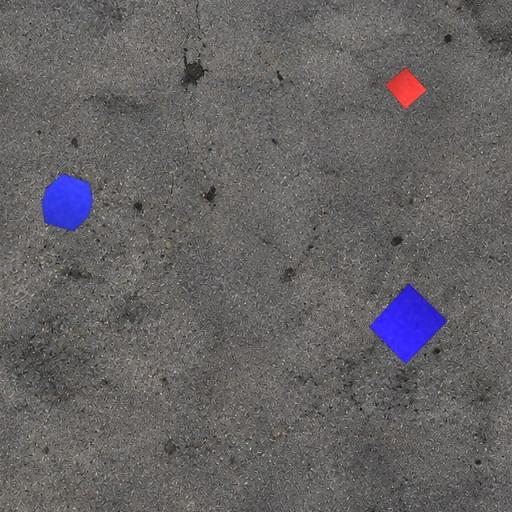BLUE_SQUARE: (368, 282, 448, 365)
RED_SQUARE: (385, 67, 428, 110)
